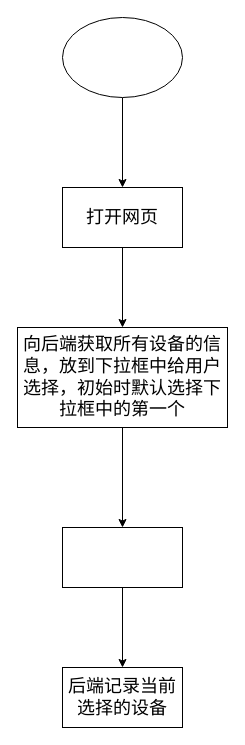
The diagram is 245 pixels wide and 745 high, and some of its shapes have lost their labels. Here are the shapes that lost their labels. From the top down, the box of each, then its label:
(62, 16, 182, 98): 开始
(62, 526, 182, 588): 将选择的设备发送给后端
